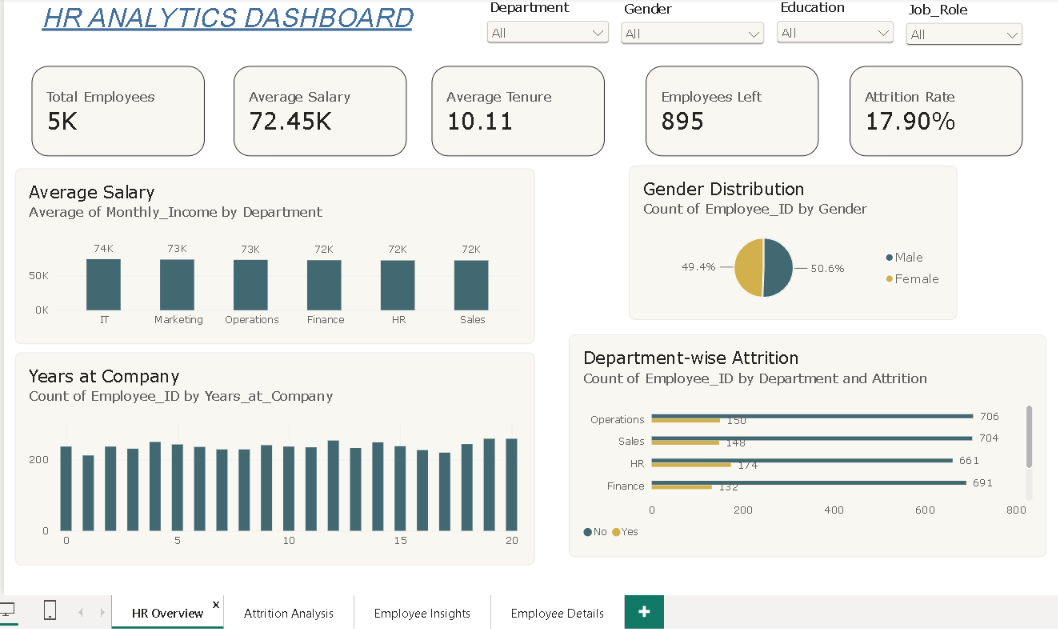

The dashboard page shown, as its layout file describes it:
{"tool":"powerbi","page":{"name":"HR Overview","canvas":[1280,720],"ordinal":0},"visuals":[{"type":"cardVisual","fields":{"Data":["hr_employees.Total_Employees"]},"box":[28.2,76.1,220,120],"z":0},{"type":"cardVisual","fields":{"Data":["hr_employees.Average_Salary"]},"box":[271.2,75.8,220,120],"z":1000},{"type":"cardVisual","fields":{"Data":["hr_employees.Average_Tenure"]},"box":[510.3,75.8,220,120],"z":2000},{"type":"cardVisual","fields":{"Data":["hr_employees.Employees_Left"]},"box":[768.1,76.1,220,120],"z":3000},{"type":"clusteredBarChart","title":"Department-wise Attrition","fields":{"Category":["hr_employees.Department"],"Series":["hr_employees.Attrition"],"Y":["CountNonNull(hr_employees.Employee_ID)"]},"box":[682.2,404.9,576.3,269],"z":4000},{"type":"columnChart","title":"Average Salary","fields":{"Category":["hr_employees.Department"],"Y":["Avg(hr_employees.Monthly_Income)"]},"box":[13.5,204.9,627,212.3],"z":5000},{"type":"pieChart","title":"Gender Distribution","fields":{"Category":["hr_employees.Gender"],"Y":["CountNonNull(hr_employees.Employee_ID)"]},"box":[754.6,201.2,396.3,186.5],"z":6000},{"type":"clusteredColumnChart","title":"Years at Company","fields":{"Category":["hr_employees.Years_at_Company"],"Y":["CountNonNull(hr_employees.Employee_ID)"]},"box":[13.5,427,627,256.4],"z":7000},{"type":"textbox","box":[0,0,537.4,65],"z":8000},{"type":"cardVisual","fields":{"Data":["hr_employees.Attrition Rate"]},"box":[1014.7,76.1,220,120],"z":9000},{"type":"slicer","fields":{"Values":["hr_employees.Department"]},"box":[577.9,0,157.1,69.9],"z":10000},{"type":"slicer","fields":{"Values":["hr_employees.Gender"]},"box":[739.9,1.2,182.8,65],"z":11000},{"type":"slicer","fields":{"Values":["hr_employees.Education"]},"box":[927.6,0,150.9,73.6],"z":12000},{"type":"slicer","fields":{"Values":["hr_employees.Job_Role"]},"box":[1083.4,2.5,150.9,71.2],"z":13000}]}

Visuals, with their boxes on the page's 1280x720 design canvas (x1, y1, x2, y2). These are canvas units, not pixel positions in the 1058x629 screenshot, which may show the page scaled, cropped or inside an application window:
cardVisual - hr_employees.Total_Employees: region(28, 76, 248, 196)
cardVisual - hr_employees.Average_Salary: region(271, 76, 491, 196)
cardVisual - hr_employees.Average_Tenure: region(510, 76, 730, 196)
cardVisual - hr_employees.Employees_Left: region(768, 76, 988, 196)
"Department-wise Attrition" clusteredBarChart: region(682, 405, 1258, 674)
"Average Salary" columnChart: region(14, 205, 640, 417)
"Gender Distribution" pieChart: region(755, 201, 1151, 388)
"Years at Company" clusteredColumnChart: region(14, 427, 640, 683)
textbox: region(0, 0, 537, 65)
cardVisual - hr_employees.Attrition Rate: region(1015, 76, 1235, 196)
slicer - hr_employees.Department: region(578, 0, 735, 70)
slicer - hr_employees.Gender: region(740, 1, 923, 66)
slicer - hr_employees.Education: region(928, 0, 1078, 74)
slicer - hr_employees.Job_Role: region(1083, 2, 1234, 74)
